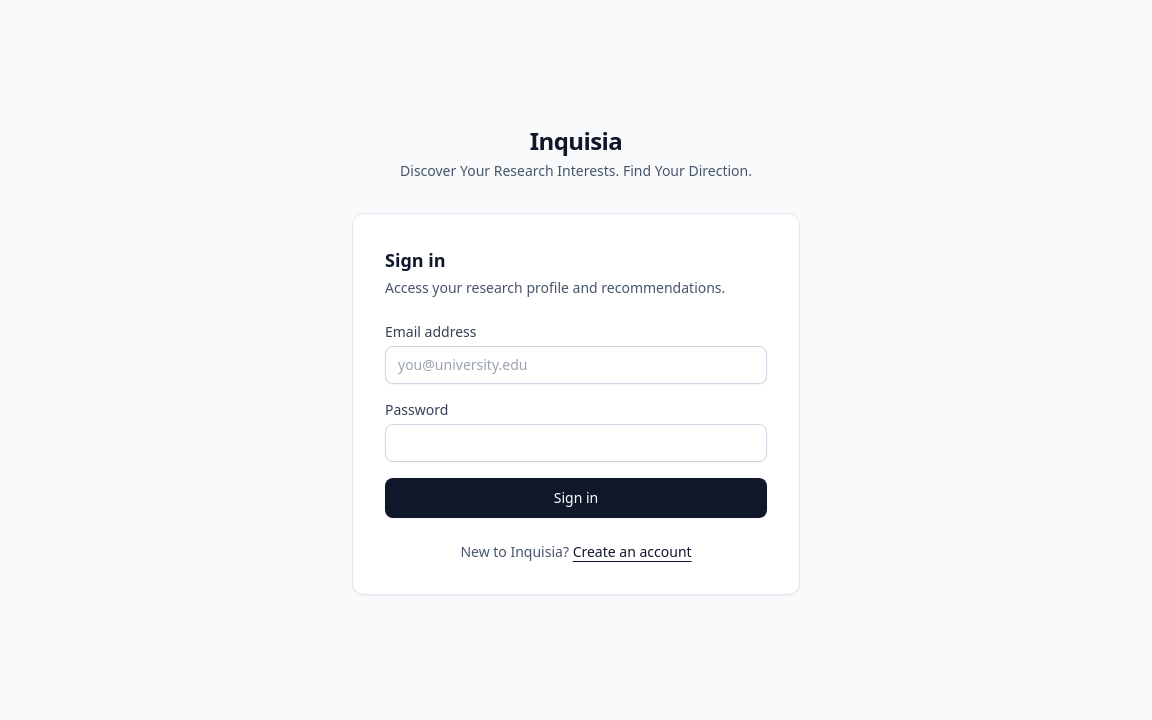
it: Auth pages › validates login form and signs in successfully
Step 1. Type "ada@example.edu" into the field labelled "Email address" → (576, 365), box 385,346 -> 767,384
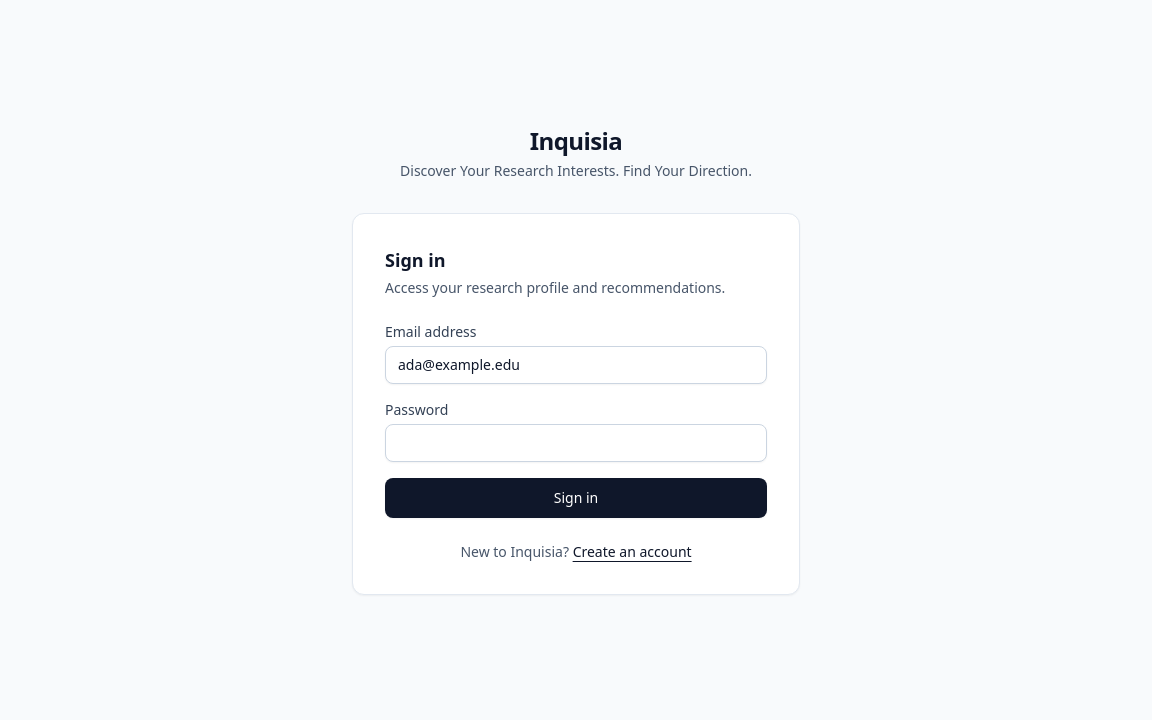
Step 2. Type "StrongPassword123!" into the password field labelled "Password" → (576, 443), box 385,424 -> 767,462
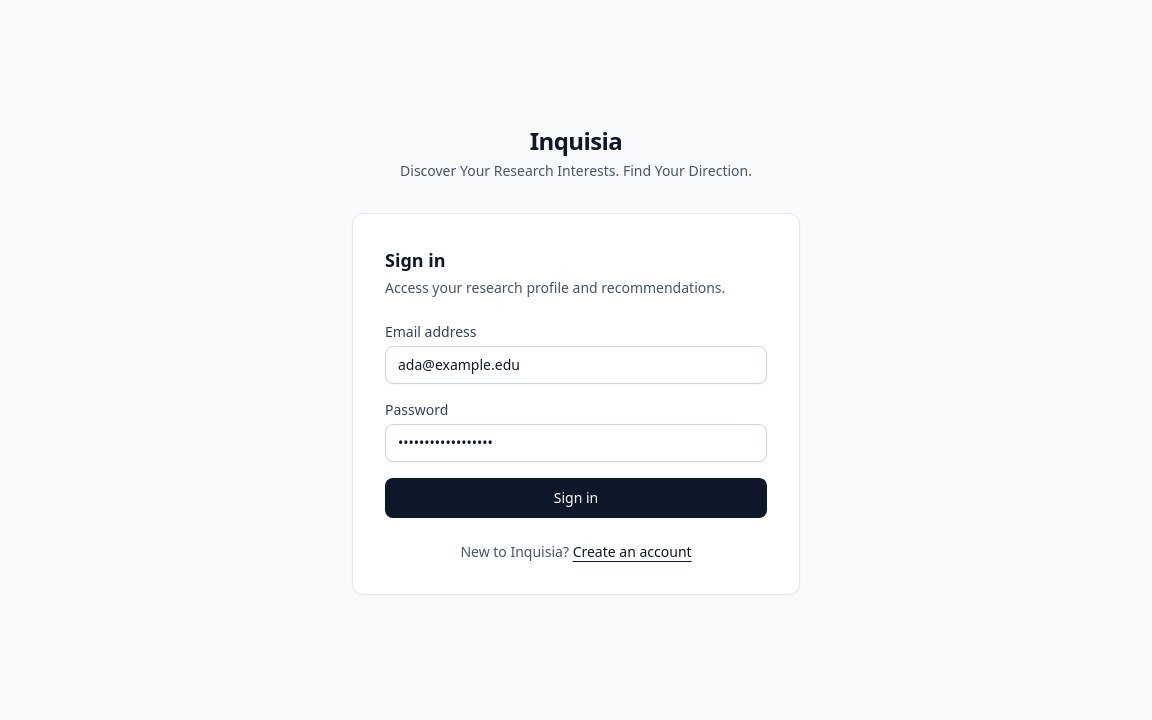
Step 3. Click the button "Sign in" → (576, 498), box 385,478 -> 767,518
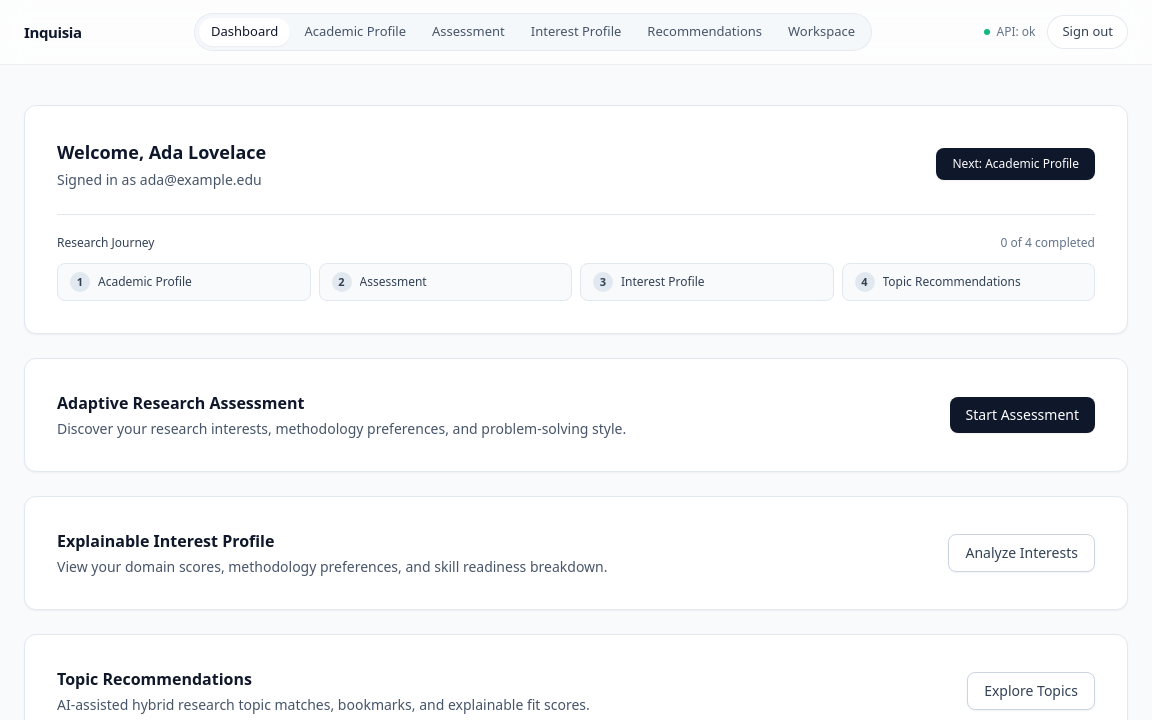
Result: the heading "Welcome, Ada Lovelace" is shown at 57,138 -> 266,166
